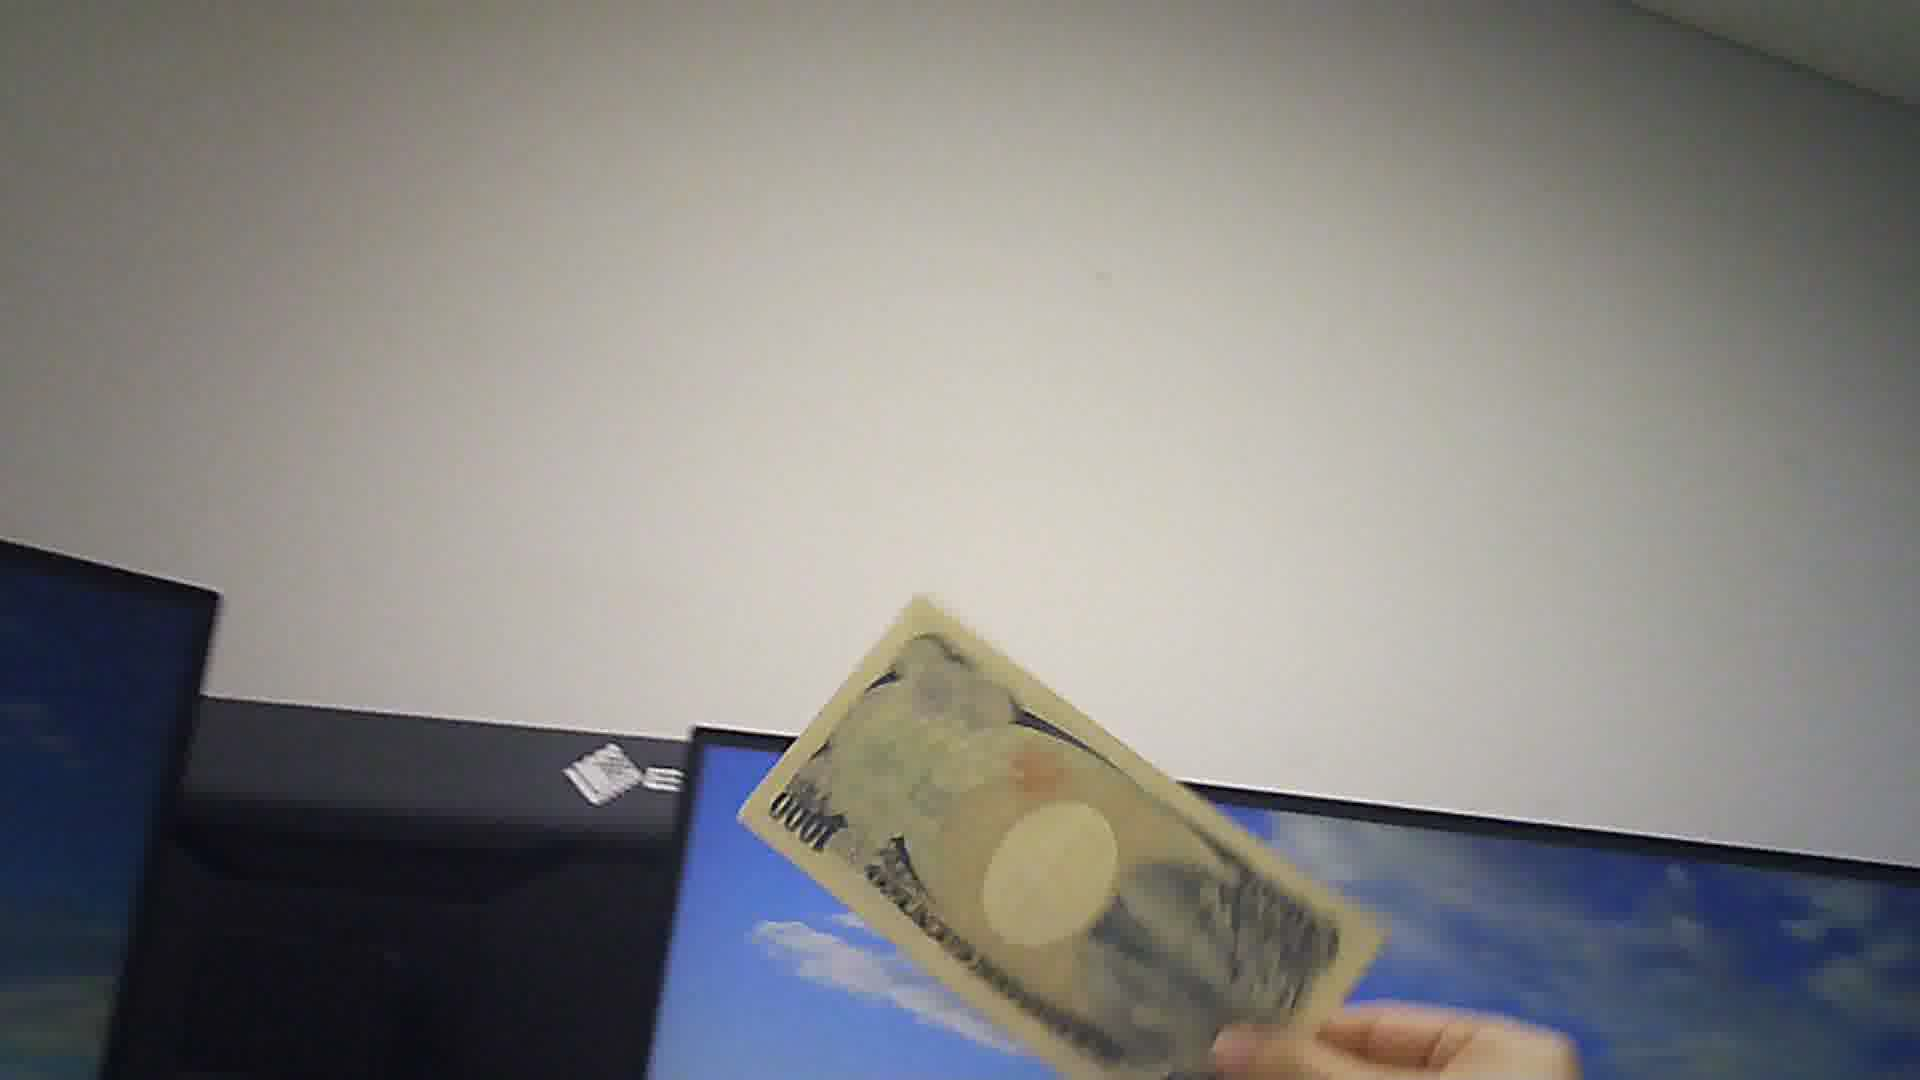1,000 Yen: (735, 568, 1348, 1073)
